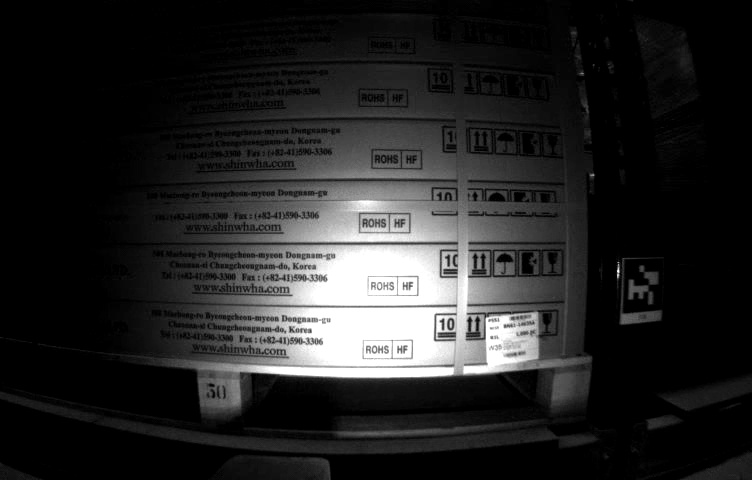True Barcode: (483, 308, 545, 366)
